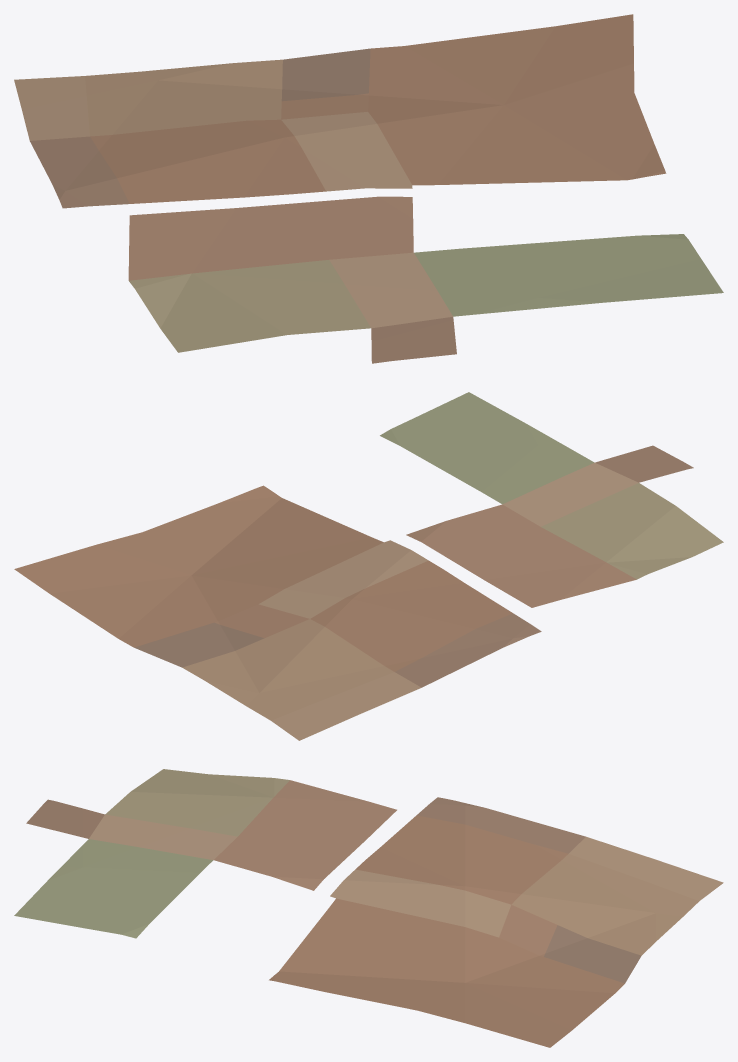
File: farm_-56_-42_soil.glb
3 renders of one model, top to bottom at view 1: azimuth 30°, elevation 25°; view 2: azimuth 150°, elevation 25°; view 3: azimuth 270°, elevation 25°, orthographic. The views are drawn at different scales.
Visible parts, largest first — view 1: geometry_0; view 2: geometry_0; view 3: geometry_0.
Part boxes in pixels (left/top/right/bottom): geometry_0: left=14, top=14, right=723, bottom=363; geometry_0: left=14, top=392, right=723, bottom=740; geometry_0: left=14, top=769, right=723, bottom=1047.
Bounding box in the file's own units: 260 × 25.41 × 298.
